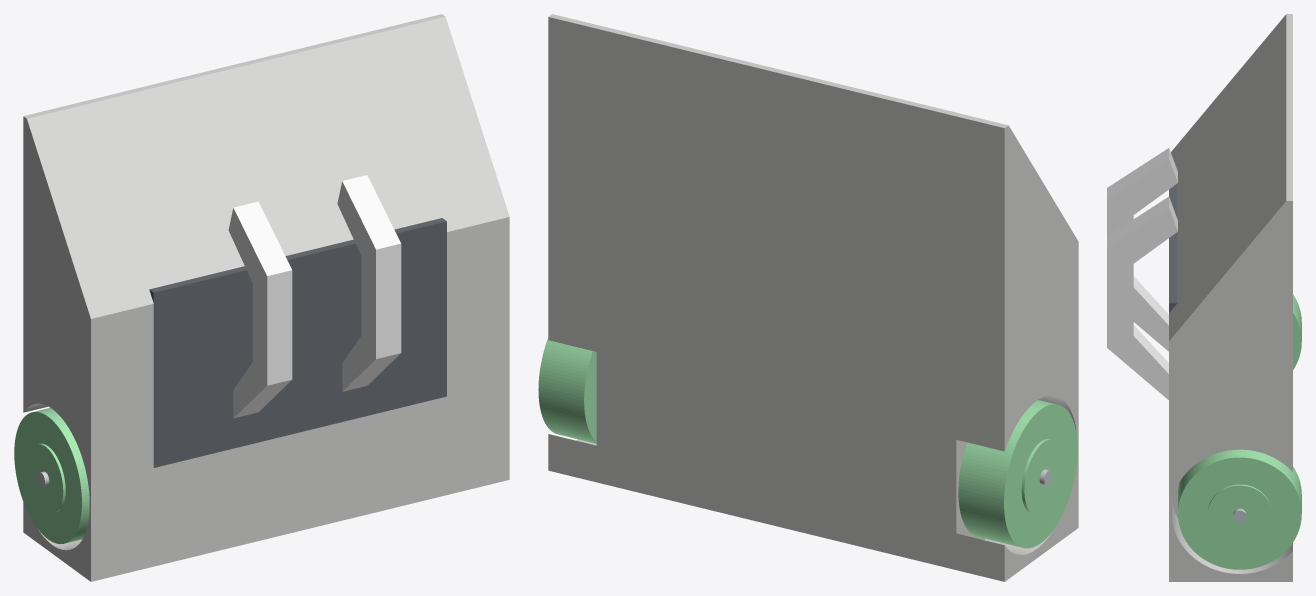
File: flippant.glb
The picture shows the model from 3 angles, left to right: view 1: azimuth 30°, elevation 25°; view 2: azimuth 150°, elevation 25°; view 3: azimuth 270°, elevation 25°; orthographic projection. The views are drawn at different scales.
Parts seen in each view (by area): view 1: chassis, lid, hoop_r, hoop_l, wheel_r0; view 2: chassis, wheel_r0, wheel_l0; view 3: chassis, wheel_l0, hoop_l, hoop_r, lid, wheel_r0.
Part boxes in pixels (x1,y1,x2,y2): chassis: [23, 14, 509, 581]; lid: [149, 218, 446, 467]; hoop_r: [228, 201, 292, 418]; hoop_l: [337, 175, 401, 391]; wheel_r0: [14, 408, 89, 544]; chassis: [548, 14, 1078, 581]; wheel_r0: [958, 400, 1077, 548]; wheel_l0: [538, 338, 596, 443]; chassis: [1169, 14, 1292, 581]; wheel_l0: [1178, 449, 1301, 569]; hoop_l: [1107, 196, 1177, 399]; hoop_r: [1107, 148, 1177, 351]; lid: [1169, 184, 1177, 312]; wheel_r0: [1293, 294, 1301, 369].
Bounding box in the file's own units: 105 × 95 × 44.
